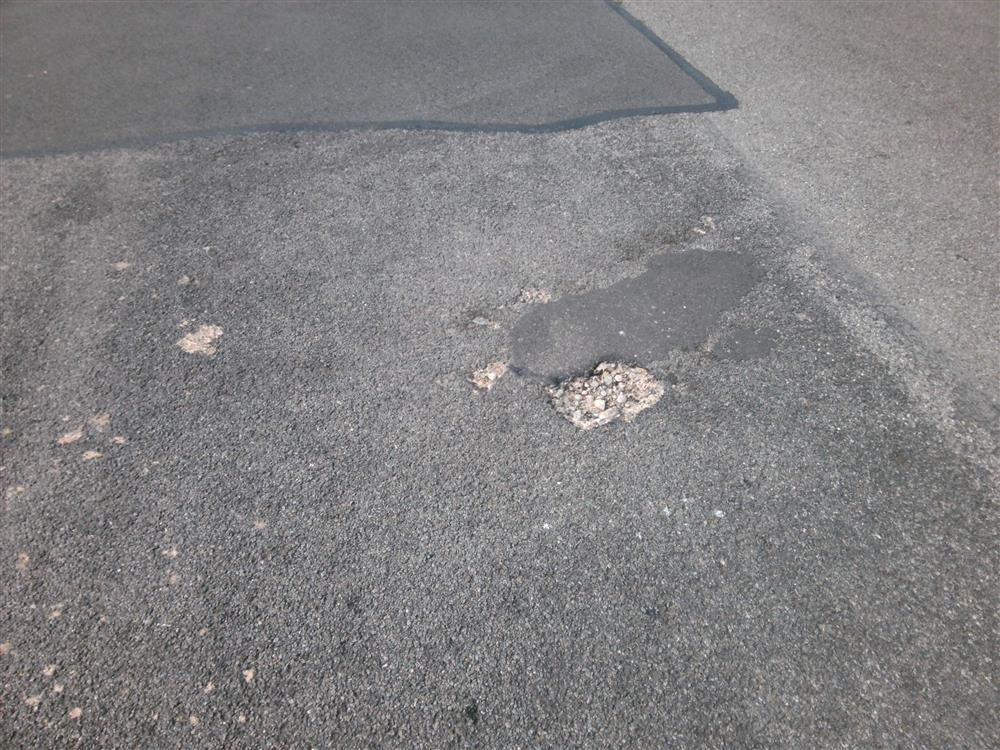pothole: (534, 355, 667, 436)
